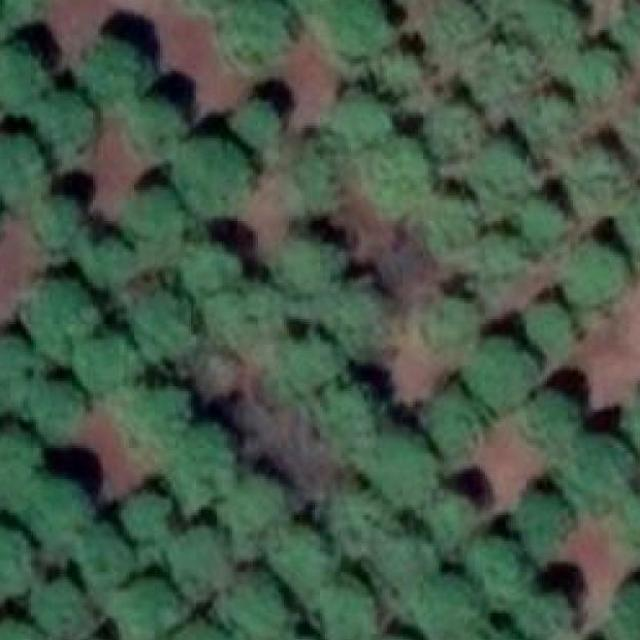Tree: (165, 136, 248, 206), (23, 281, 98, 358), (166, 432, 236, 510), (562, 441, 635, 513), (66, 38, 141, 100), (466, 340, 532, 410), (26, 484, 98, 546), (368, 138, 431, 208), (129, 290, 191, 360), (206, 283, 284, 337), (224, 4, 291, 66), (224, 482, 281, 554), (420, 391, 482, 456), (121, 188, 186, 250), (36, 92, 96, 159), (468, 148, 534, 208), (353, 436, 423, 492), (513, 492, 565, 565), (170, 534, 227, 600), (564, 242, 624, 304), (364, 524, 424, 586), (570, 138, 632, 195), (114, 582, 174, 640), (521, 391, 578, 451), (420, 193, 475, 255), (286, 142, 341, 204), (126, 394, 191, 446), (274, 534, 334, 590), (315, 592, 385, 640), (33, 590, 100, 640), (322, 0, 387, 51), (467, 536, 518, 601), (470, 38, 530, 93), (329, 92, 384, 152), (412, 476, 466, 536), (511, 587, 573, 639), (274, 240, 336, 291), (80, 340, 142, 391), (229, 580, 284, 637), (72, 231, 132, 283), (415, 572, 464, 634), (0, 128, 45, 195), (466, 238, 526, 288), (520, 0, 575, 54), (118, 491, 176, 541), (427, 105, 482, 157), (314, 383, 372, 432), (521, 92, 573, 146), (325, 283, 377, 337), (188, 347, 245, 396), (33, 384, 83, 439), (28, 193, 72, 255), (118, 94, 172, 143), (0, 43, 42, 105), (420, 298, 475, 345), (327, 492, 374, 547), (526, 304, 576, 355), (0, 438, 39, 502), (284, 331, 333, 381), (81, 536, 126, 590), (570, 48, 619, 97), (229, 100, 279, 147), (181, 242, 230, 288), (523, 202, 568, 252), (0, 528, 36, 590), (374, 48, 418, 93), (0, 335, 36, 386), (431, 0, 476, 37), (0, 0, 47, 33), (614, 582, 640, 640), (617, 394, 640, 458), (168, 620, 236, 640), (617, 187, 640, 246), (619, 492, 640, 550), (619, 0, 640, 51), (449, 628, 522, 640), (625, 100, 640, 144), (0, 630, 47, 640), (268, 636, 326, 640)
